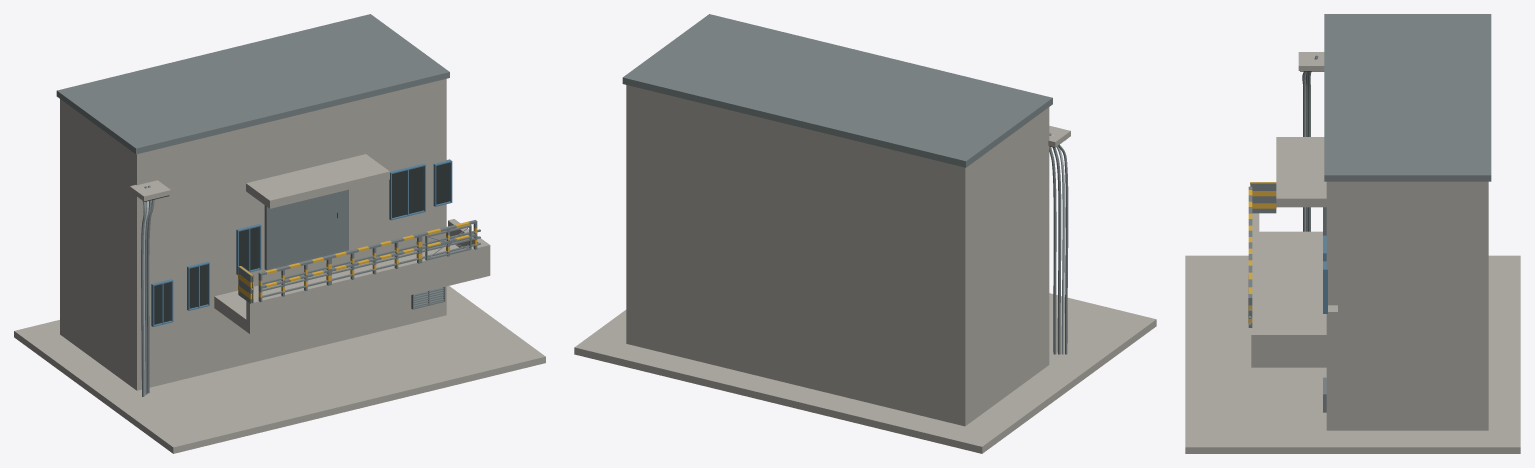
3 views of the same model, side by side, from view 1: azimuth 30°, elevation 25°; view 2: azimuth 150°, elevation 25°; view 3: azimuth 270°, elevation 25° (orthographic). The views are drawn at different scales.
Visible parts, largest first — view 1: 浅灰色工业建筑主体外墙, 连续地坪和通道, 示意屋面, 示意侧墙 left, 中央关闭的灰色卷帘门, 平台前部高实体栏板, 连续外挑平台板及底部梁架, 卷帘门上方长方形悬挑雨棚, 右侧大双玻璃窗, 平台护栏中部黄色立柱扶手, 卷帘门左侧双玻璃窗, 左侧第二扇双玻璃窗 (+12 smaller); view 2: 示意背墙, 示意屋面, 示意侧墙 left, 连续地坪和通道, 示意侧墙 right, 浅灰色工业建筑主体外墙, 左缘成束竖管第一根, 左缘成束竖管第二根, 左缘成束竖管第四根, 左缘成束竖管第三根; view 3: 示意侧墙 right, 连续地坪和通道, 示意屋面, 连续外挑平台板及底部梁架, 卷帘门上方长方形悬挑雨棚, 浅灰色工业建筑主体外墙, 平台右侧实体栏板, 平台前部高实体栏板, 平台左端护栏短返段, 左上管线入口小型混凝土挑檐.
Part boxes in pixels (x1,y1,x2,y2): 浅灰色工业建筑主体外墙: (131, 79, 446, 390); 连续地坪和通道: (14, 286, 545, 453); 示意屋面: (56, 14, 449, 154); 示意侧墙 left: (60, 99, 131, 386); 中央关闭的灰色卷帘门: (264, 189, 348, 270); 平台前部高实体栏板: (246, 242, 490, 322); 连续外挑平台板及底部梁架: (214, 240, 490, 334); 卷帘门上方长方形悬挑雨棚: (246, 154, 389, 208); 右侧大双玻璃窗: (389, 163, 425, 220); 平台护栏中部黄色立柱扶手: (329, 233, 420, 285); 卷帘门左侧双玻璃窗: (236, 224, 261, 274); 左侧第二扇双玻璃窗: (187, 261, 209, 310); 示意背墙: (636, 87, 954, 423); 示意屋面: (622, 14, 1052, 167); 示意侧墙 left: (955, 111, 1043, 426); 连续地坪和通道: (574, 293, 1156, 453); 示意侧墙 right: (626, 85, 636, 345); 浅灰色工业建筑主体外墙: (1043, 107, 1049, 368); 左缘成束竖管第一根: (1049, 146, 1056, 354); 左缘成束竖管第二根: (1049, 133, 1061, 354); 左缘成束竖管第四根: (1058, 144, 1068, 354); 左缘成束竖管第三根: (1052, 135, 1065, 354); 示意侧墙 right: (1338, 181, 1488, 430); 连续地坪和通道: (1185, 255, 1520, 453); 示意屋面: (1324, 14, 1491, 181); 连续外挑平台板及底部梁架: (1251, 231, 1326, 367); 卷帘门上方长方形悬挑雨棚: (1276, 137, 1326, 207); 浅灰色工业建筑主体外墙: (1326, 181, 1337, 430); 平台右侧实体栏板: (1251, 332, 1326, 354); 平台前部高实体栏板: (1251, 213, 1259, 354); 平台左端护栏短返段: (1250, 182, 1276, 213); 左上管线入口小型混凝土挑檐: (1298, 52, 1324, 70).
Bounding box in the file's own units: 14.43 × 9.26 × 10.69.
